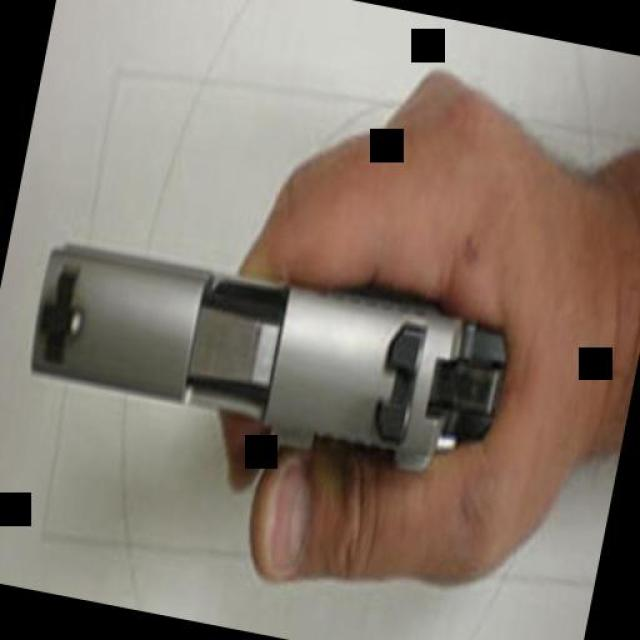gun: (18, 223, 518, 492)
